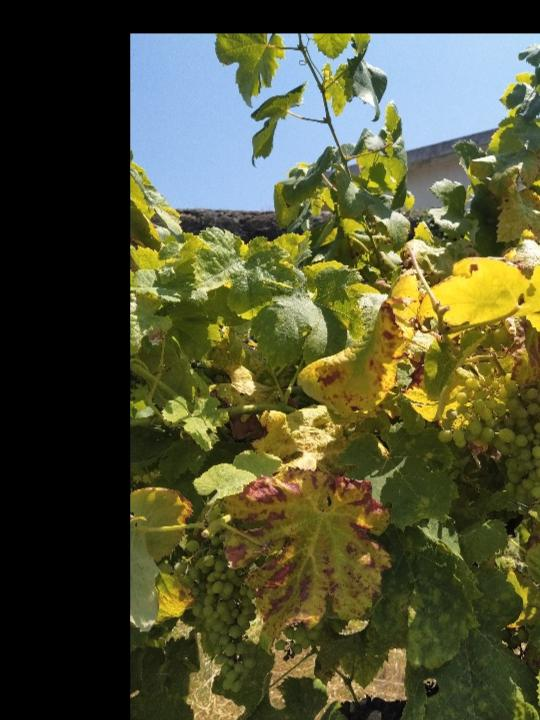grape: (437, 364, 540, 513), (171, 533, 258, 694)
